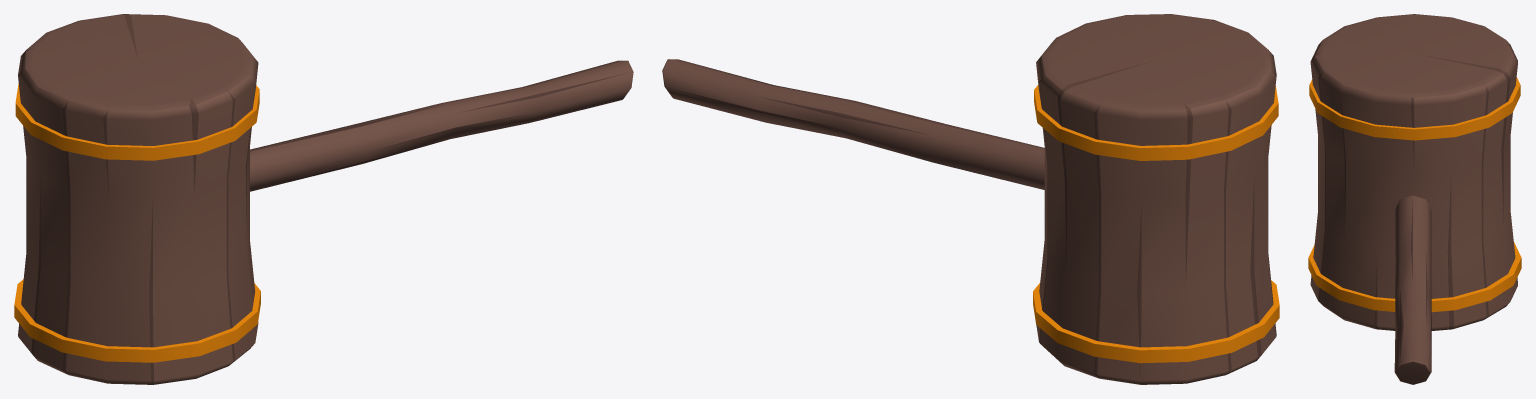
Rendered from harley_hammer.fbx.
3 renders of one model, left to right at view 1: azimuth 30°, elevation 25°; view 2: azimuth 150°, elevation 25°; view 3: azimuth 270°, elevation 25°, orthographic. The views are drawn at different scales.
Visible parts, largest first — view 1: hammer1; view 2: hammer1; view 3: hammer1.
Boxes of the visible parts, left/top/right/bottom form: hammer1: left=14, top=14, right=633, bottom=384; hammer1: left=662, top=14, right=1279, bottom=384; hammer1: left=1308, top=14, right=1521, bottom=384.
Size of the model in its own units: 227 by 101 by 81.9.
